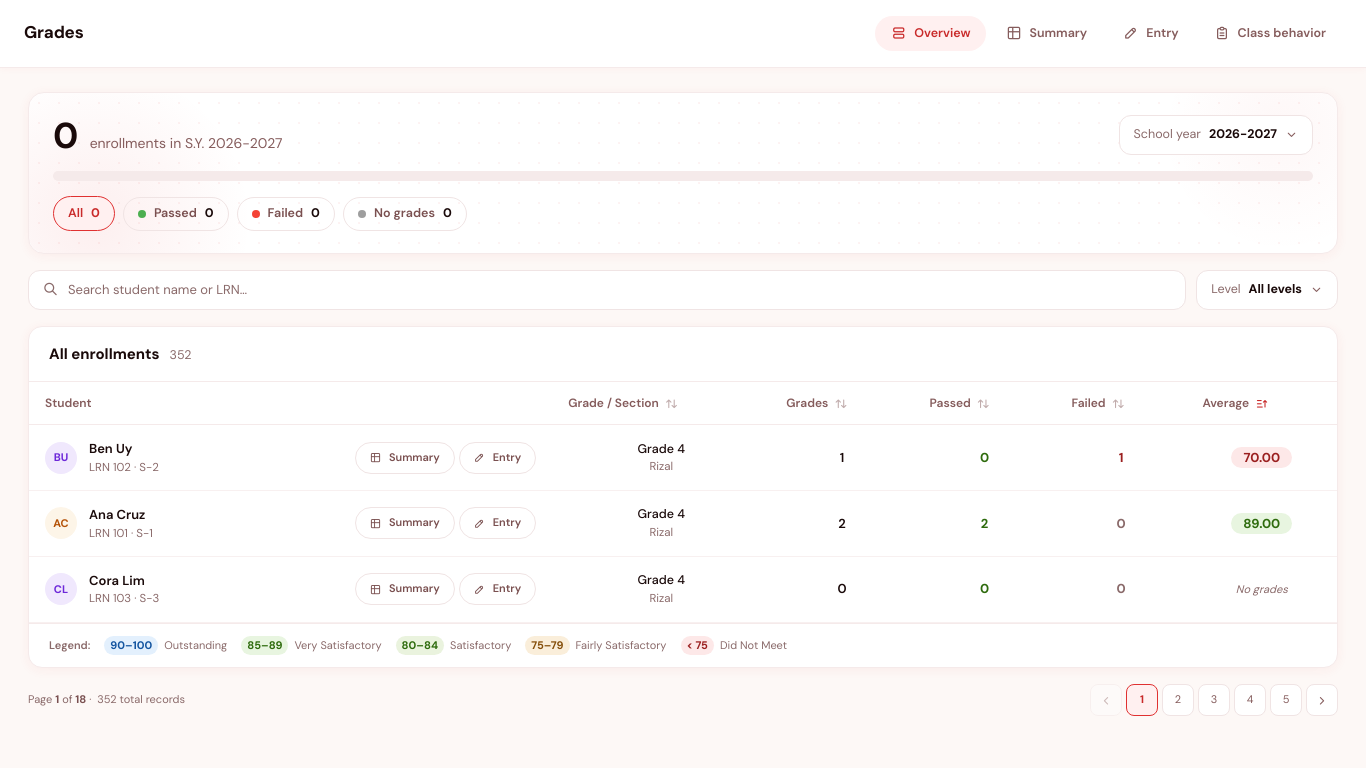
Test case: Grades overview — status band › can list the learners with no grades yet
The width and height of the screenshot is (1366, 768).
Click the button with aria-label "No grades 5" at (405, 214), box [343, 197, 467, 231]
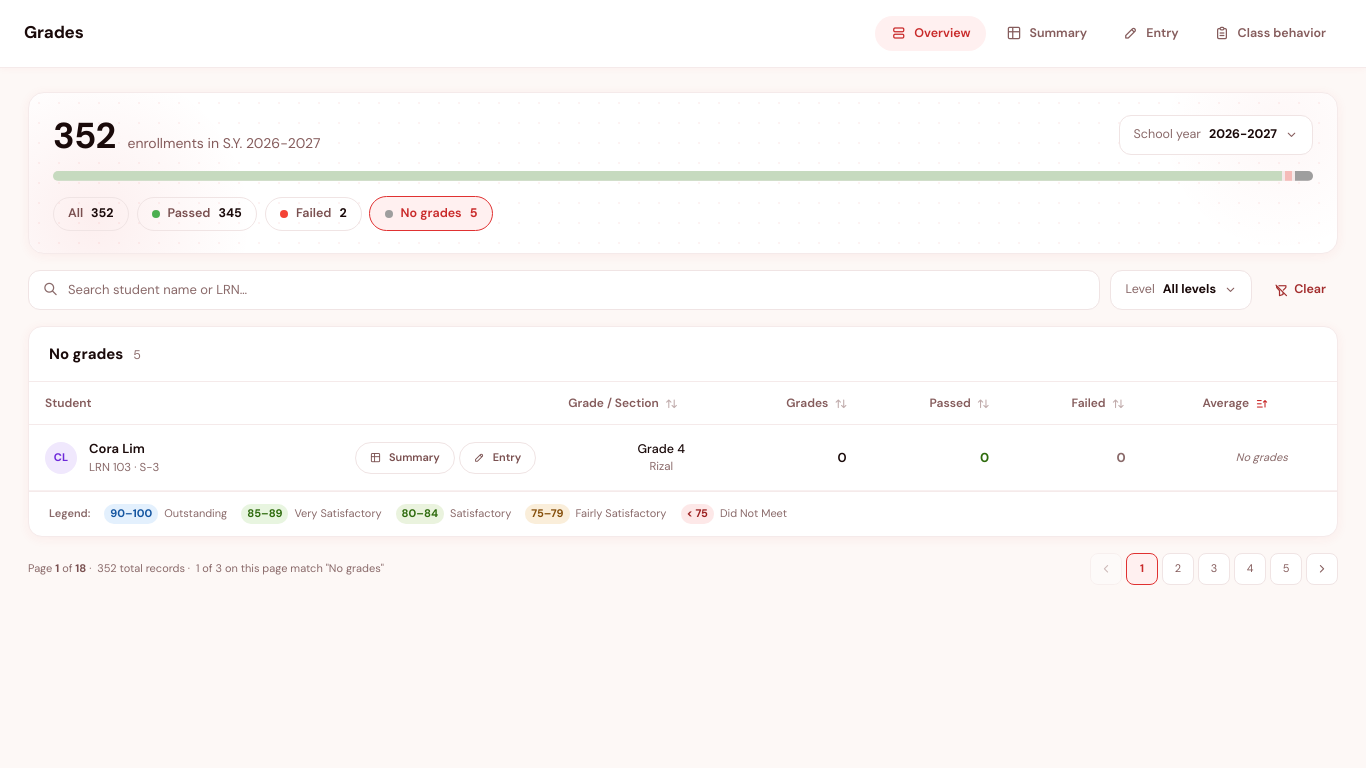
Expected: the text "Cora Lim" is shown, [89, 440, 145, 457]
Result: the text "Ana Cruz" is gone
Result: the text "Ben Uy" is gone
